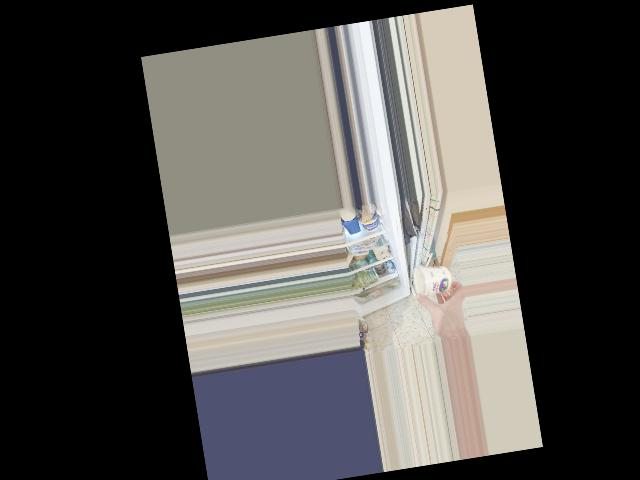cotage: (413, 264, 451, 299)
